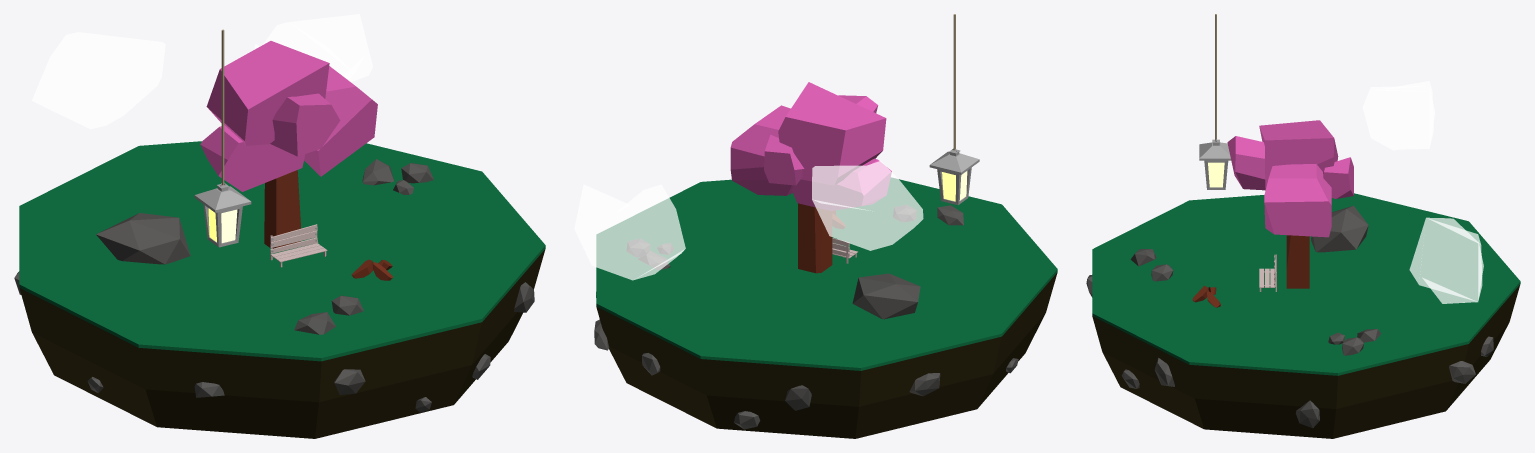
File: tree_bench-transformed.glb
3 renders of one model, left to right at view 1: azimuth 30°, elevation 25°; view 2: azimuth 150°, elevation 25°; view 3: azimuth 270°, elevation 25°, orthographic. The views are drawn at different scales.
Parts seen in each view (by area): view 1: floor, ground, Cube.005, Cube.020, Cube.021, rock.005, trunk, Cube.022, Cube.016, Cube.023, rock.004, rock.002 (+4 smaller); view 2: floor, ground, Cube.005, Cube.021, Cube.020, rock.005, trunk, Cube.022, Cube.023, rock.014, rock.016; view 3: floor, ground, Cube.005, Cube.021, Cube.020, rock.005, trunk, Cube.022, rock.010, rock.013, Cube.016.
Part boxes in pixels (bbox=[...]): floor: bbox=[19, 141, 545, 361]; ground: bbox=[19, 249, 545, 438]; Cube.005: bbox=[200, 41, 377, 191]; Cube.020: bbox=[32, 32, 165, 129]; Cube.021: bbox=[254, 14, 372, 81]; rock.005: bbox=[96, 213, 190, 264]; trunk: bbox=[264, 170, 300, 248]; Cube.022: bbox=[194, 183, 251, 247]; Cube.016: bbox=[270, 224, 327, 267]; Cube.023: bbox=[208, 208, 237, 242]; rock.004: bbox=[294, 312, 335, 334]; rock.002: bbox=[334, 369, 365, 394]; floor: bbox=[596, 177, 1057, 370]; ground: bbox=[596, 272, 1057, 438]; Cube.005: bbox=[730, 82, 891, 210]; Cube.021: bbox=[574, 184, 685, 280]; Cube.020: bbox=[812, 160, 923, 250]; rock.005: bbox=[852, 273, 920, 319]; trunk: bbox=[798, 203, 832, 273]; Cube.022: bbox=[929, 149, 979, 205]; Cube.023: bbox=[942, 171, 967, 201]; rock.014: bbox=[785, 385, 811, 410]; rock.016: bbox=[909, 373, 940, 396]; floor: bbox=[1092, 193, 1520, 375]; ground: bbox=[1092, 284, 1520, 438]; Cube.005: bbox=[1227, 120, 1353, 237]; Cube.021: bbox=[1409, 217, 1483, 303]; Cube.020: bbox=[1362, 81, 1435, 150]; rock.005: bbox=[1311, 205, 1368, 252]; trunk: bbox=[1286, 235, 1309, 288]; Cube.022: bbox=[1199, 139, 1231, 189]; rock.010: bbox=[1295, 400, 1319, 428]; rock.013: bbox=[1449, 361, 1475, 383]; Cube.016: bbox=[1259, 254, 1276, 291].
Size of the model in its own units: 14.83 by 12.87 by 14.8.
